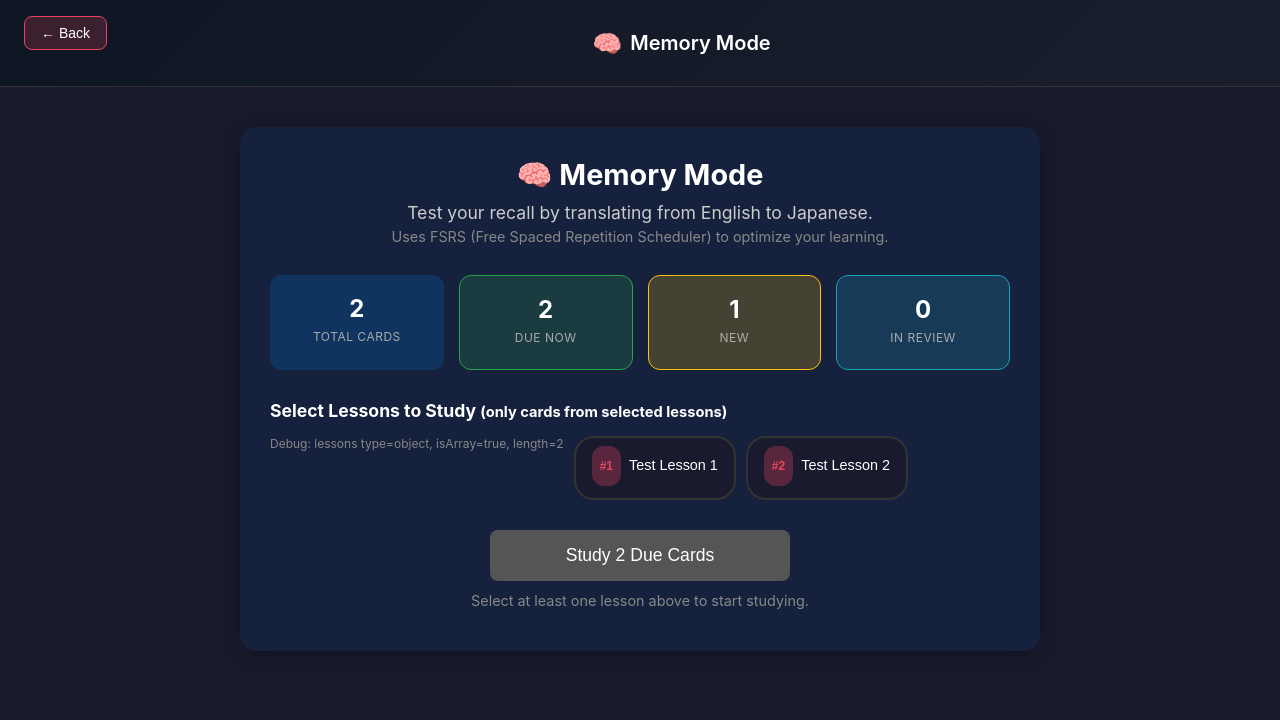
MemoryMode — Study Session Flow › should start at completion screen when no cards are due at all
Click the text "Test Lesson 1".
click(673, 465)  # box [629,457,718,473]
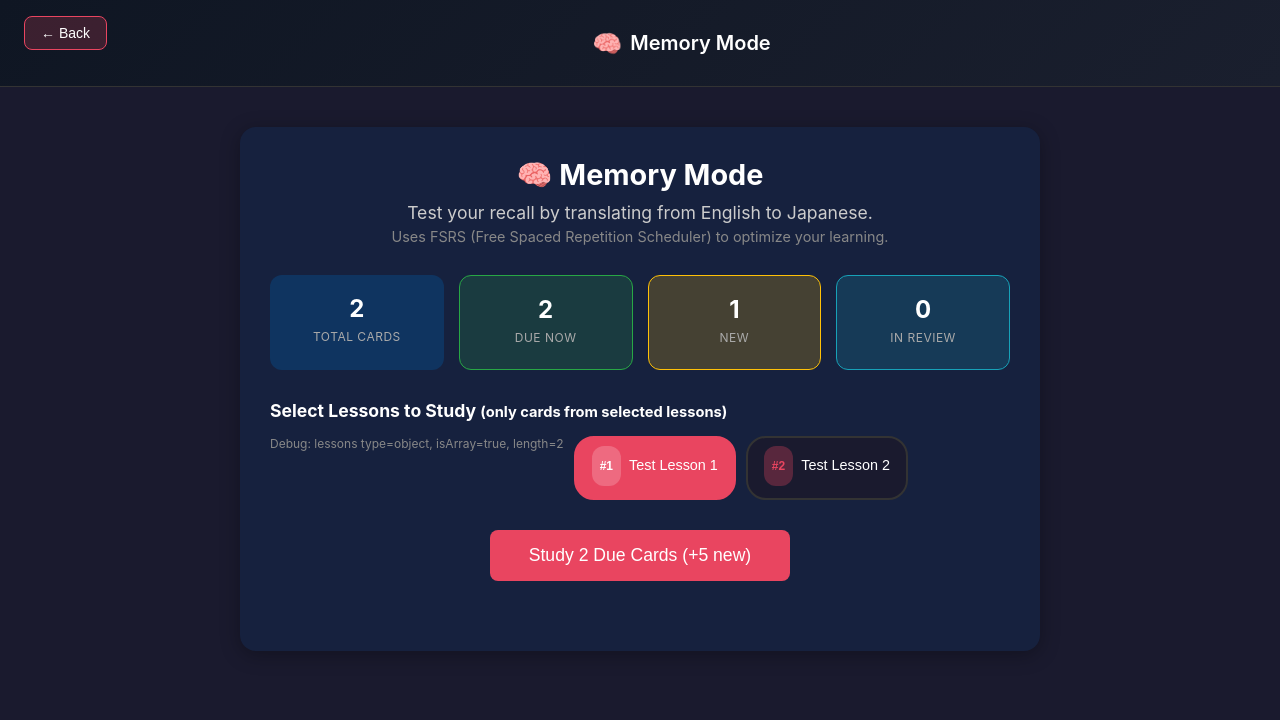
Click the button "Study 2 Due Cards (+5 new)".
click(640, 555)  # box [490,530,790,581]
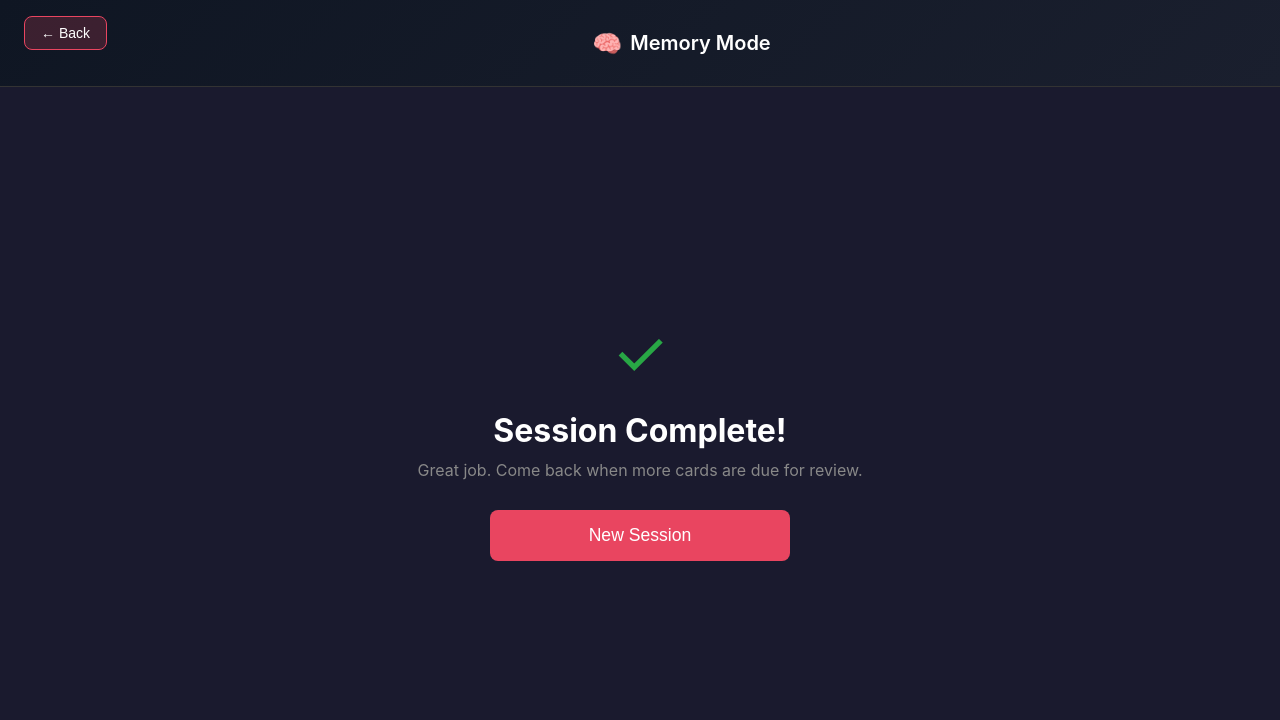
Expected: the heading "Session Complete!" is shown, [493,410,787,450]
